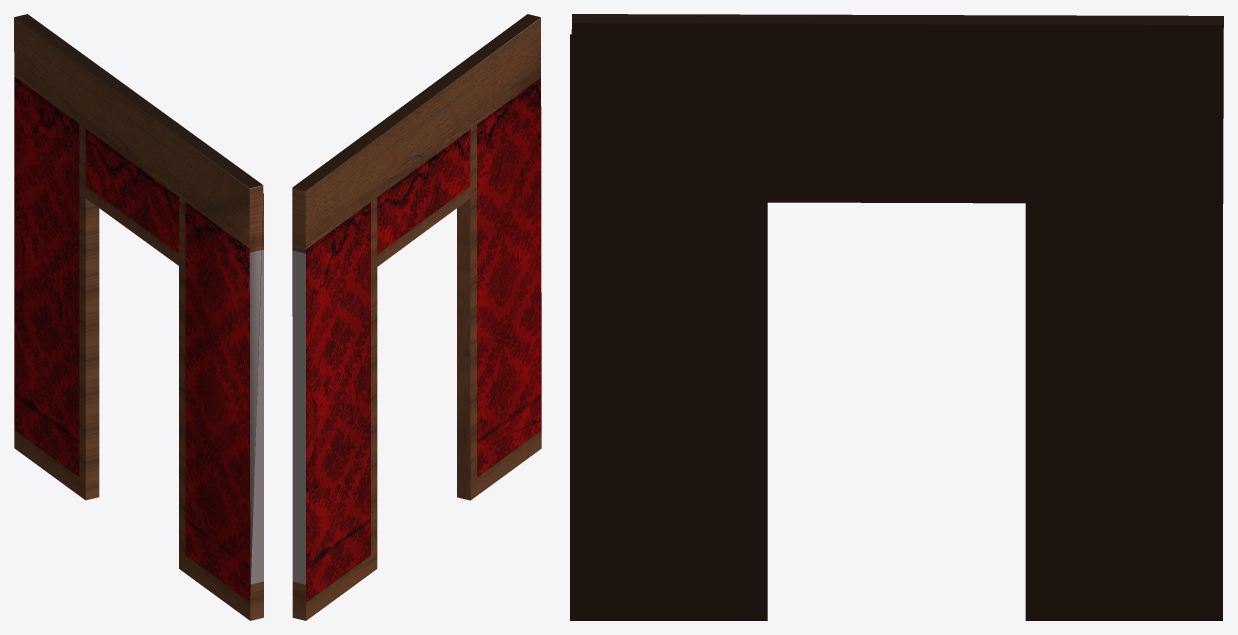
Rendered from wall_door_segment_model.FBX.
3 views of the same model, side by side, from view 1: azimuth 30°, elevation 25°; view 2: azimuth 150°, elevation 25°; view 3: azimuth 270°, elevation 25° (orthographic). The views are drawn at different scales.
Visible parts, largest first — view 1: wall_door_segemnt; view 2: wall_door_segemnt; view 3: wall_door_segemnt.
Part boxes in pixels (x1=…): wall_door_segemnt: x1=14, y1=14, x2=263, y2=620; wall_door_segemnt: x1=292, y1=14, x2=541, y2=620; wall_door_segemnt: x1=570, y1=14, x2=1223, y2=620.
Bounding box in the file's own units: 2.63 × 79.47 × 78.75.
Materials: 1 (1 with a texture image).
